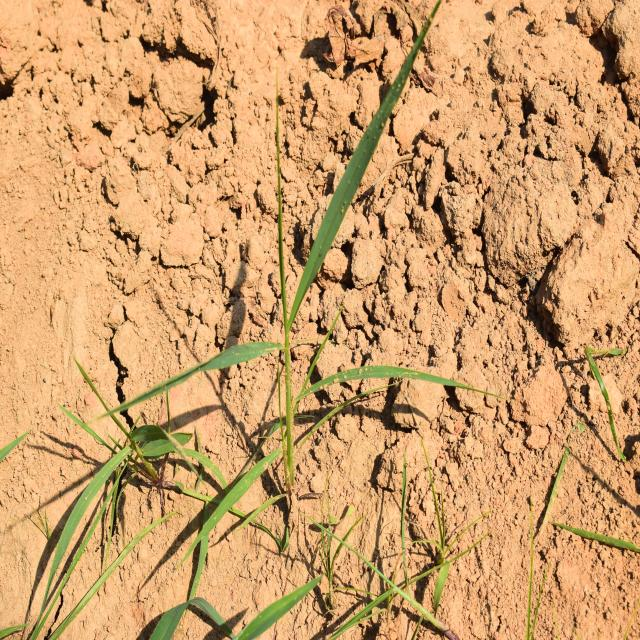green_foxtail: (194, 70, 418, 466)
